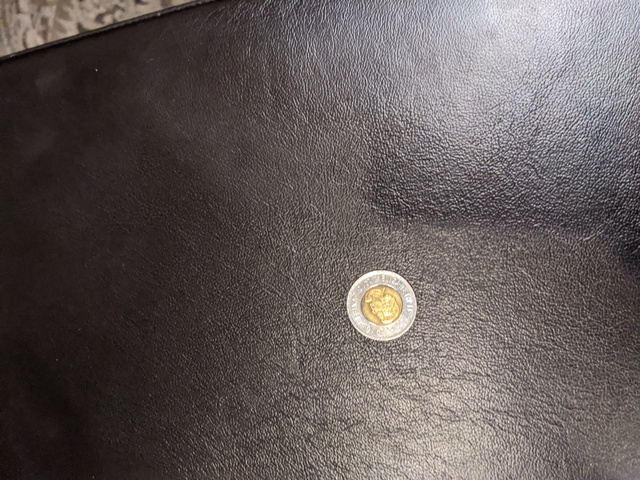twonie: (336, 265, 430, 351)
